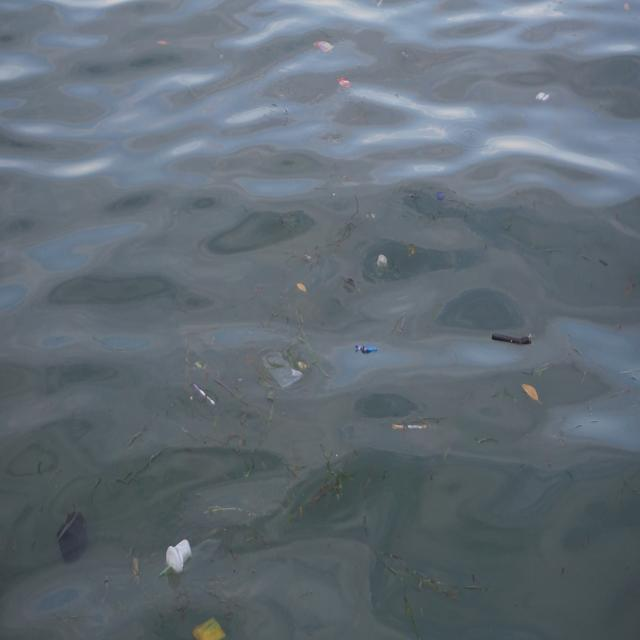Botol Plastik: (375, 250, 390, 273), (436, 191, 447, 203)
Bungkus Makanan: (392, 419, 430, 435), (354, 342, 380, 359)
Bungkus Minuman: (161, 538, 197, 583)
Kantong Plastik: (55, 508, 91, 566), (263, 349, 305, 390)
